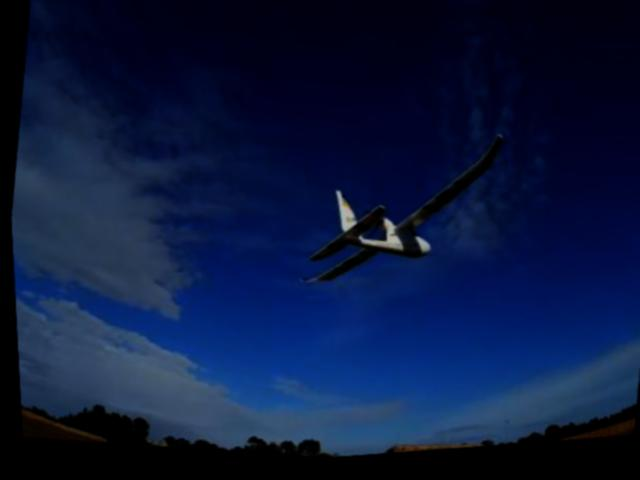uav: (284, 106, 512, 325)
